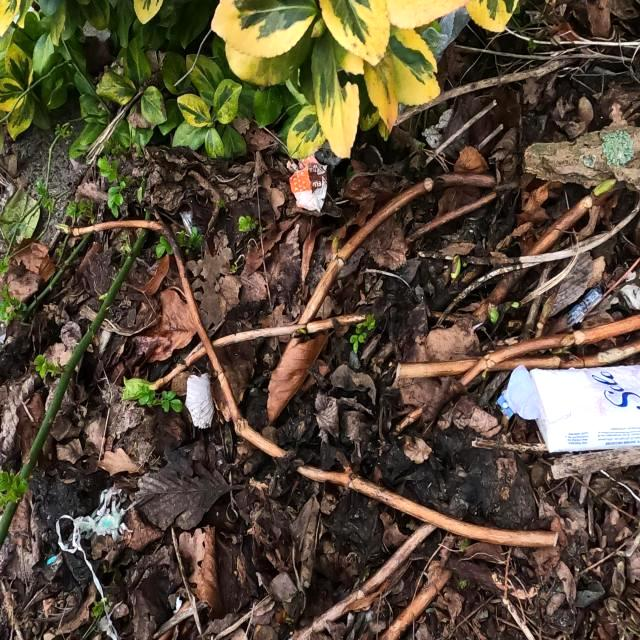Plastic: (284, 154, 328, 216)
